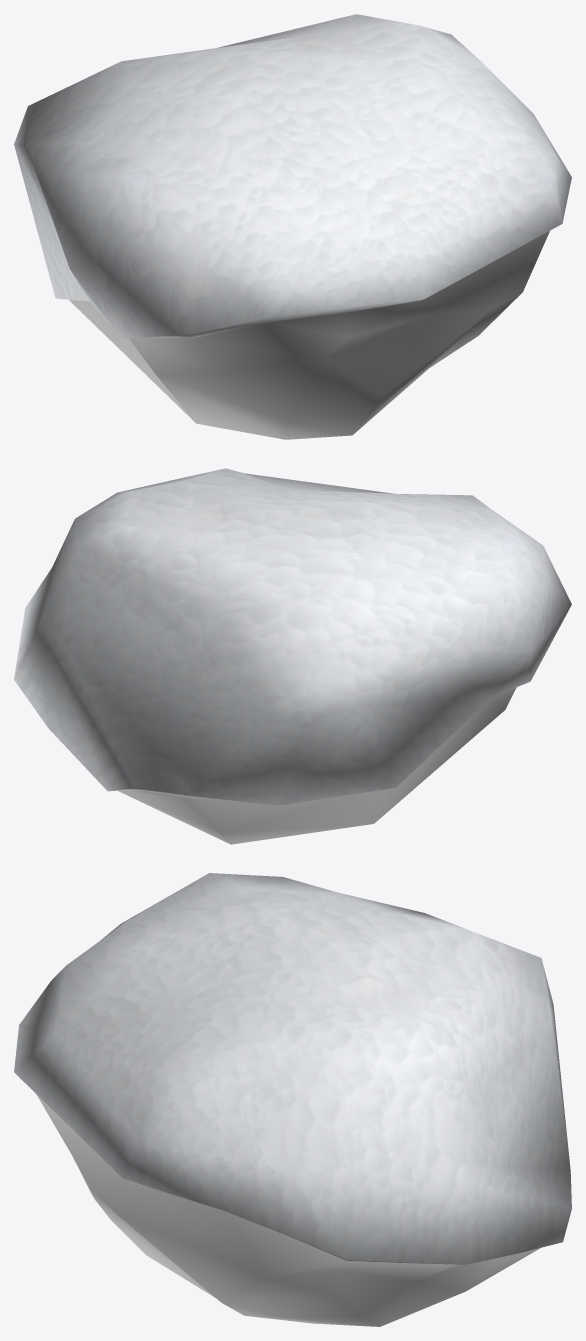
File: rock_s04a.fbx
3 renders of one model, top to bottom at view 1: azimuth 30°, elevation 25°; view 2: azimuth 150°, elevation 25°; view 3: azimuth 270°, elevation 25°, orthographic. The views are drawn at different scales.
Parts seen in each view (by area): view 1: rock_s04a; view 2: rock_s04a; view 3: rock_s04a.
Part boxes in pixels (x1,y1,x2,y2): rock_s04a: [14, 14, 571, 439]; rock_s04a: [14, 468, 571, 844]; rock_s04a: [14, 873, 571, 1326].
Bounding box in the file's own units: 251 × 157 × 227.
